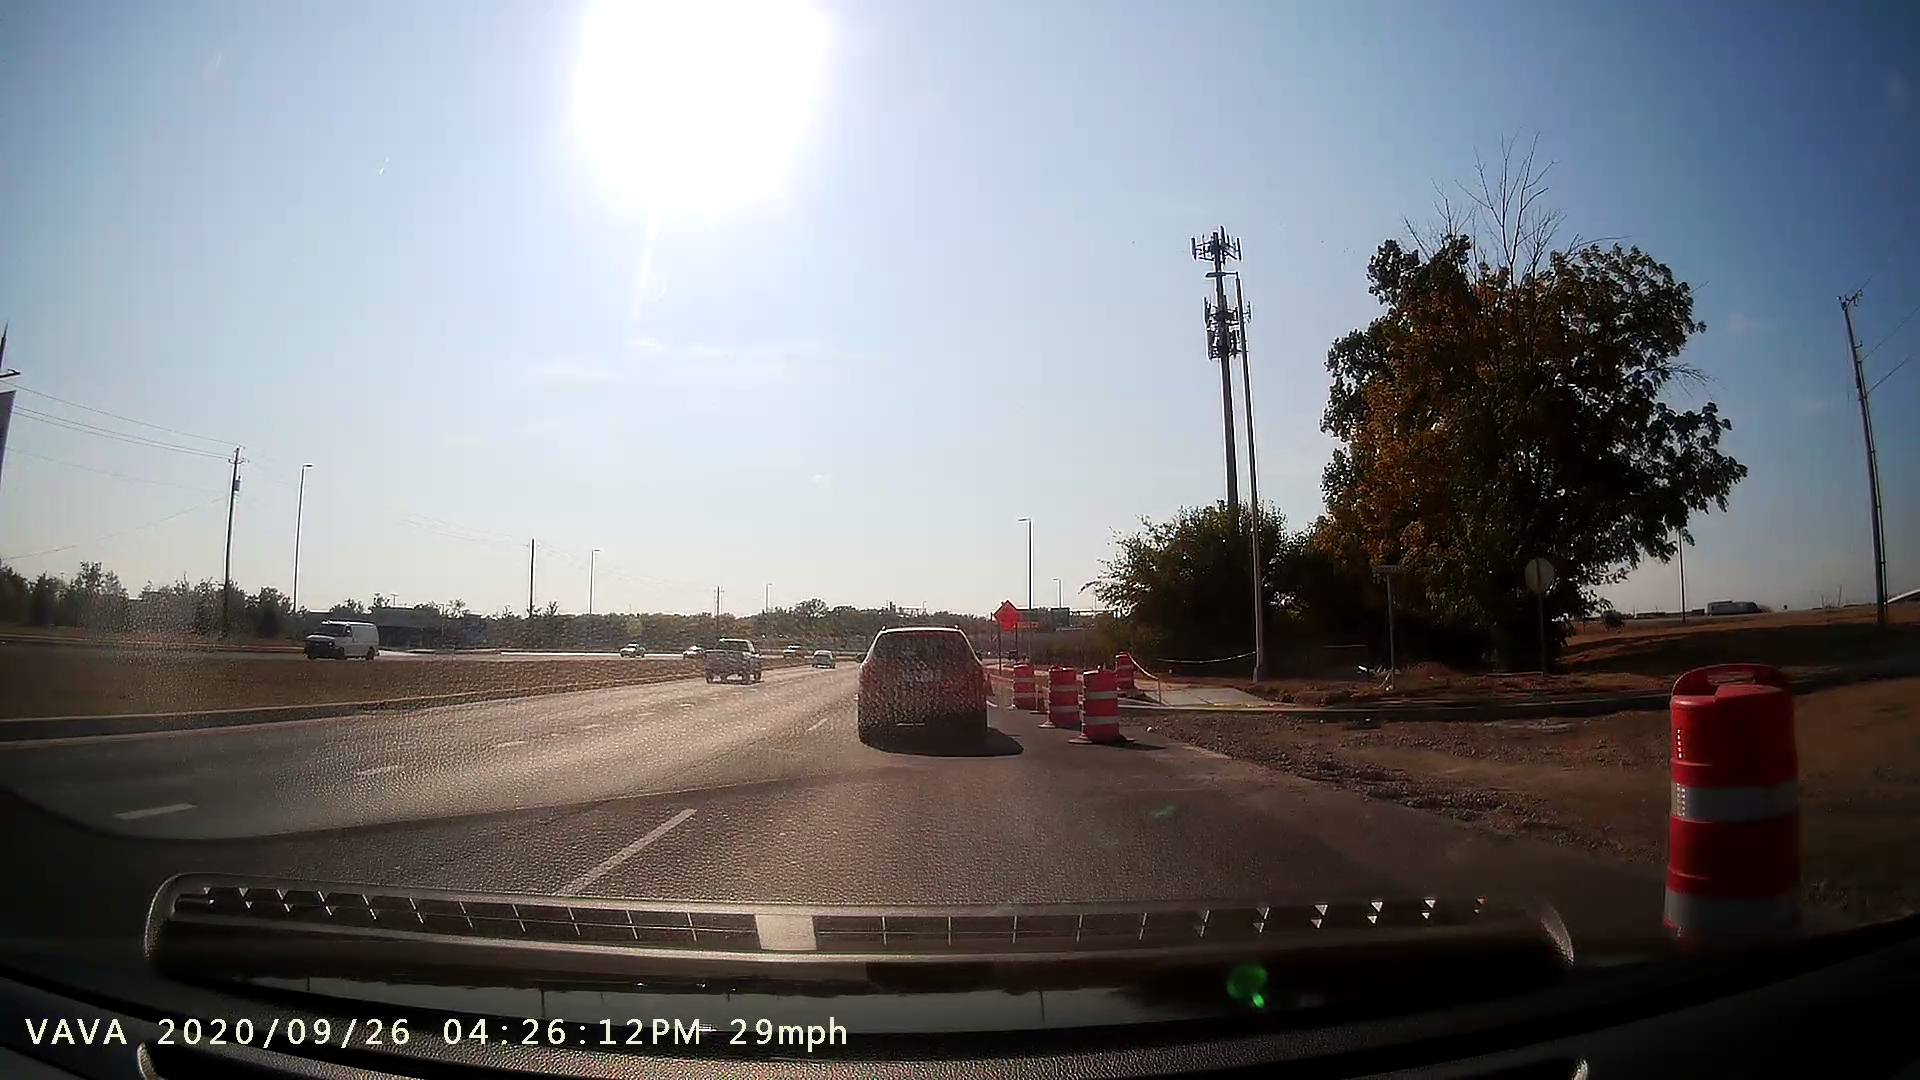const_barrel: (1067, 666, 1139, 750)
